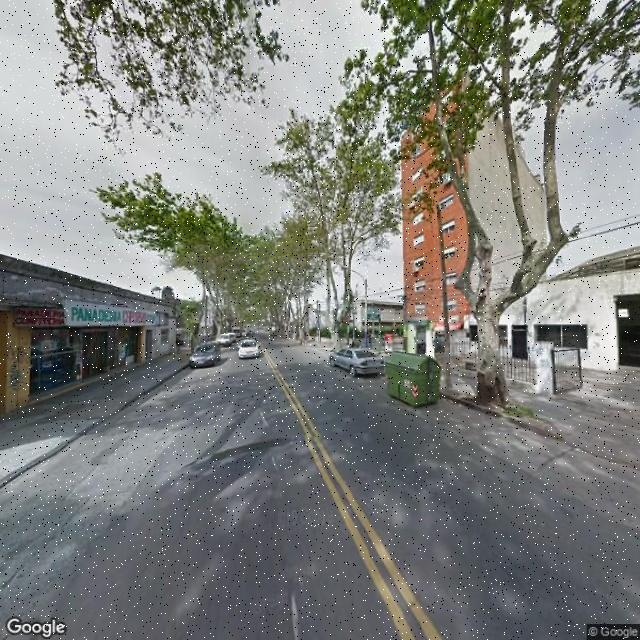garbage container: (381, 346, 449, 416)
